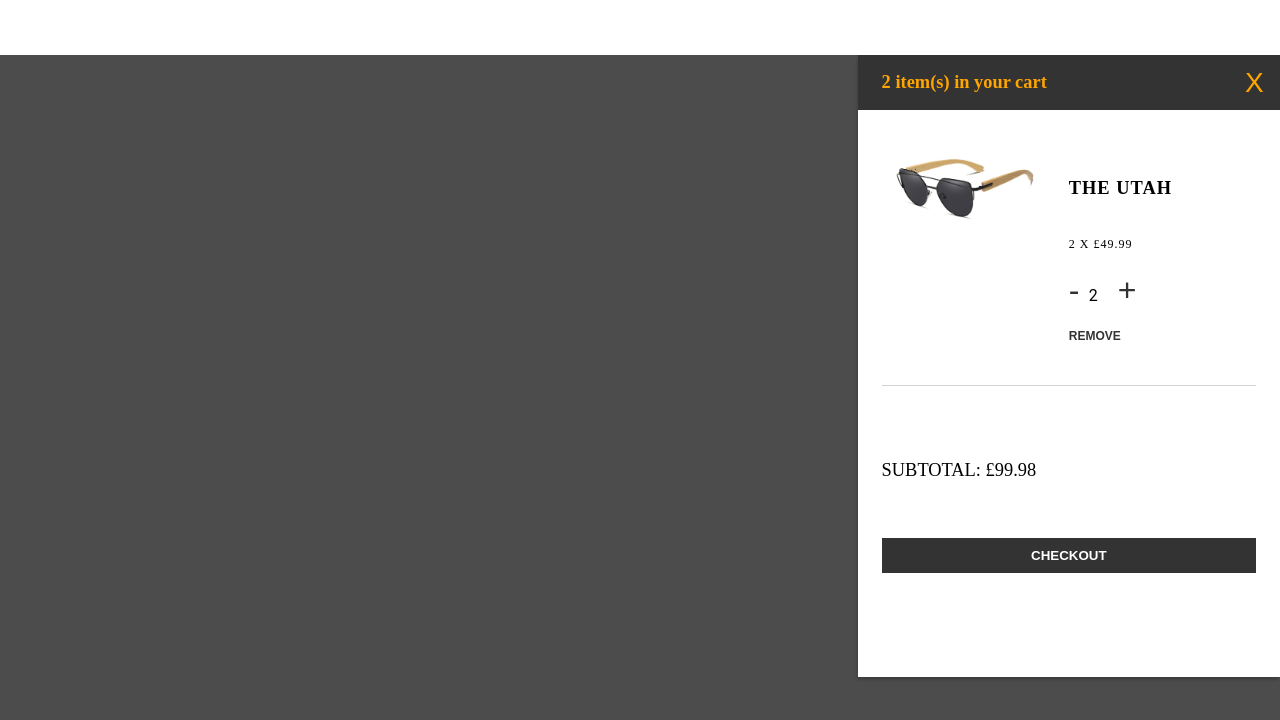
it: removes a product entirely and removes its total cost
# remove the remaining 2 items
Click the button "REMOVE".
click(1079, 336)  # box [1069,319,1089,353]
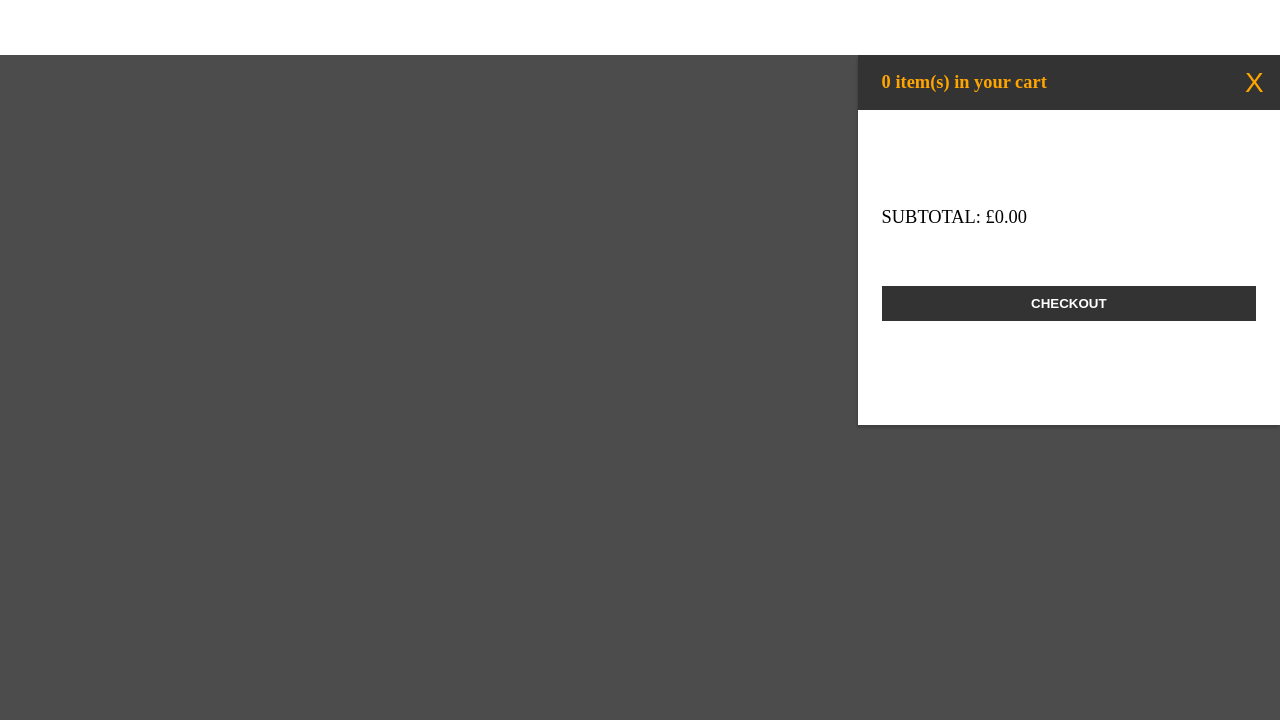
Expected: the text "SUBTOTAL: £0.00" is shown, [882,207,1027,227]
